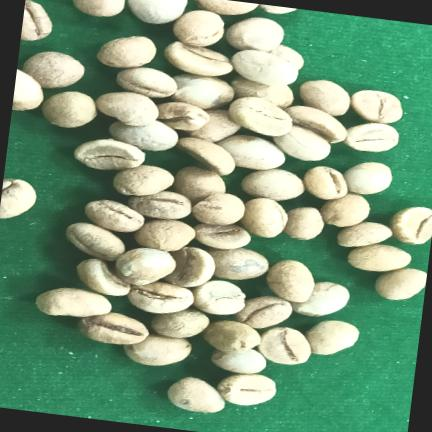good: (35, 287, 148, 344), (228, 96, 292, 136), (230, 49, 297, 86), (164, 41, 232, 76), (216, 135, 285, 169), (170, 73, 234, 109), (22, 51, 84, 88), (284, 106, 346, 143), (65, 222, 124, 260), (115, 248, 175, 285), (95, 91, 158, 126), (177, 137, 235, 175), (109, 120, 178, 151), (73, 139, 144, 169), (127, 281, 193, 313), (164, 246, 215, 287), (230, 75, 293, 108), (124, 334, 191, 365), (291, 281, 349, 316), (266, 260, 314, 302), (241, 168, 304, 200), (167, 377, 224, 412), (273, 125, 330, 160), (41, 91, 96, 127), (84, 199, 144, 232), (225, 17, 283, 51), (76, 258, 129, 295), (257, 327, 310, 364), (172, 166, 225, 203), (134, 219, 195, 251), (96, 36, 156, 68), (207, 248, 268, 279), (172, 10, 224, 46), (304, 320, 359, 354), (116, 67, 176, 98), (127, 190, 191, 219), (234, 296, 292, 328), (191, 280, 245, 314), (299, 80, 350, 116), (240, 198, 287, 237), (203, 320, 260, 352), (191, 280, 244, 314), (113, 165, 173, 195), (217, 374, 275, 405), (347, 243, 411, 271), (151, 308, 209, 338), (350, 90, 402, 123), (319, 193, 369, 227), (374, 268, 426, 299), (192, 193, 244, 224), (390, 206, 432, 244), (343, 122, 398, 151), (343, 162, 392, 194), (144, 146, 198, 175), (303, 166, 347, 199), (0, 178, 36, 218), (127, 0, 187, 24), (211, 349, 266, 374), (337, 222, 392, 246), (20, 0, 52, 40), (283, 207, 323, 239), (12, 69, 43, 110), (72, 0, 124, 16)
